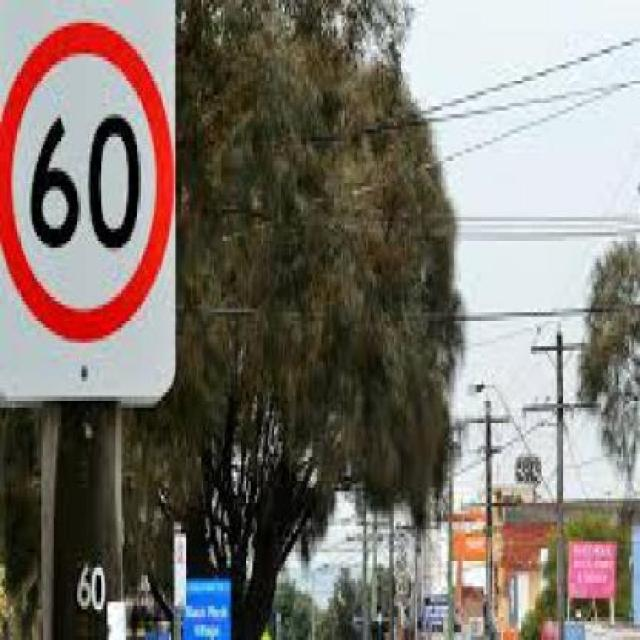forb_speed_over_60: (3, 19, 183, 347)
